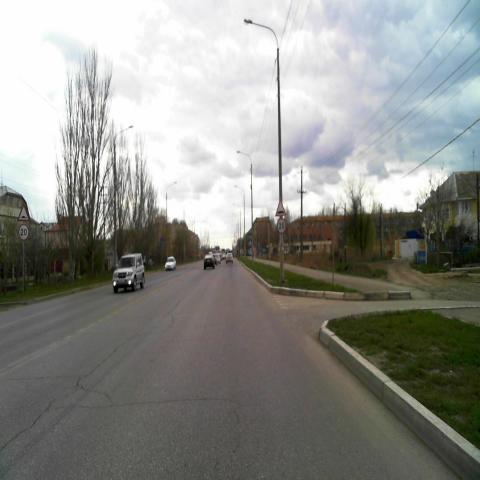1_17: (276, 199, 286, 217)
